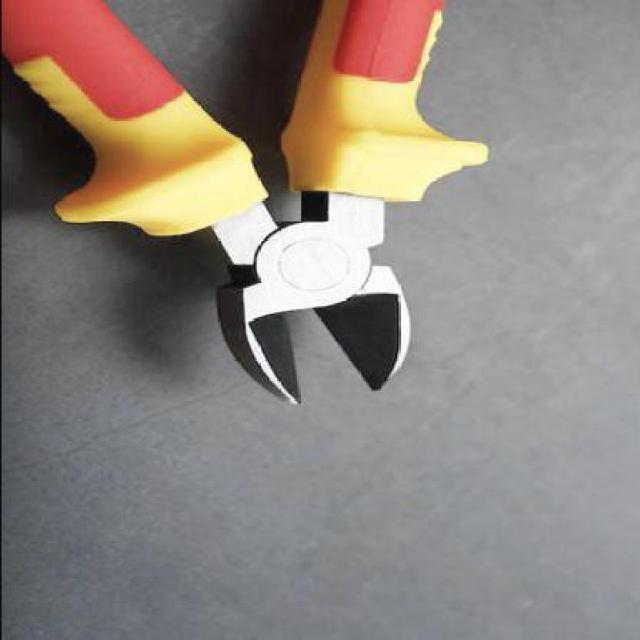pliers: (0, 0, 492, 406)
